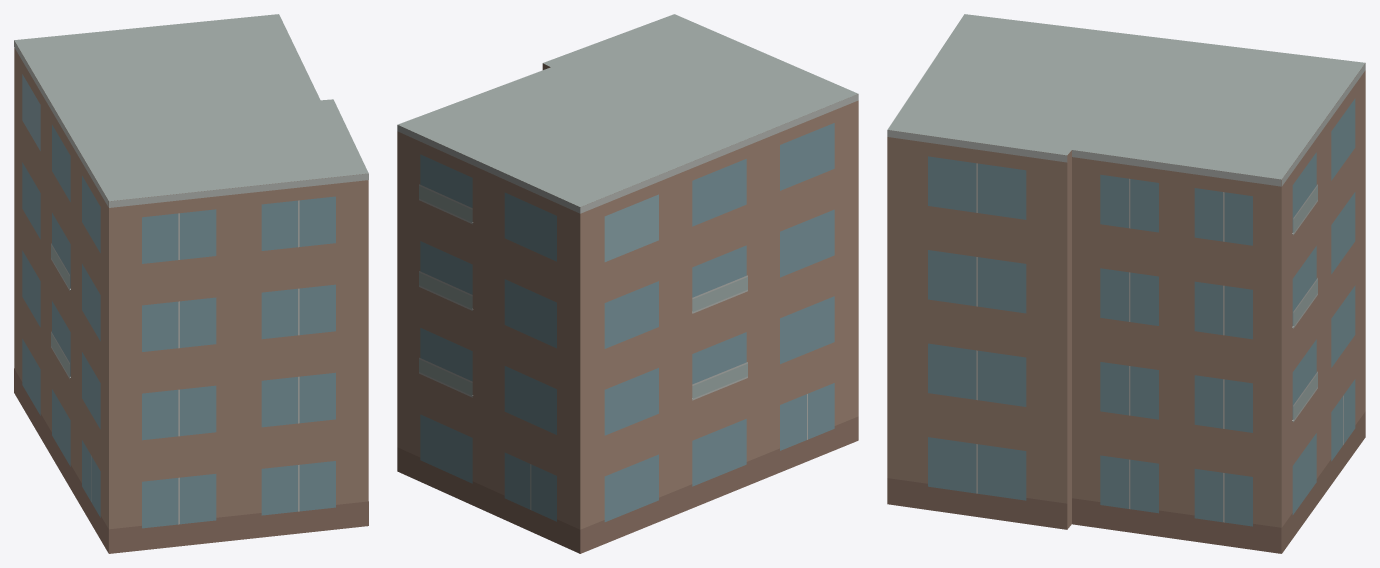
Rendered from survey-upis-32880809.glb.
3 views of the same model, side by side, from view 1: azimuth 30°, elevation 25°; view 2: azimuth 150°, elevation 25°; view 3: azimuth 270°, elevation 25° (orthographic). The views are drawn at different scales.
Parts seen in each view (by area): view 1: survey-upis-32880809.tmp; view 2: survey-upis-32880809.tmp; view 3: survey-upis-32880809.tmp.
Part boxes in pixels (x1,y1,x2,y2): survey-upis-32880809.tmp: [14, 14, 368, 553]; survey-upis-32880809.tmp: [397, 14, 858, 553]; survey-upis-32880809.tmp: [887, 14, 1365, 553].
Bounding box in the file's own units: 12.2 × 12.85 × 14.89.
